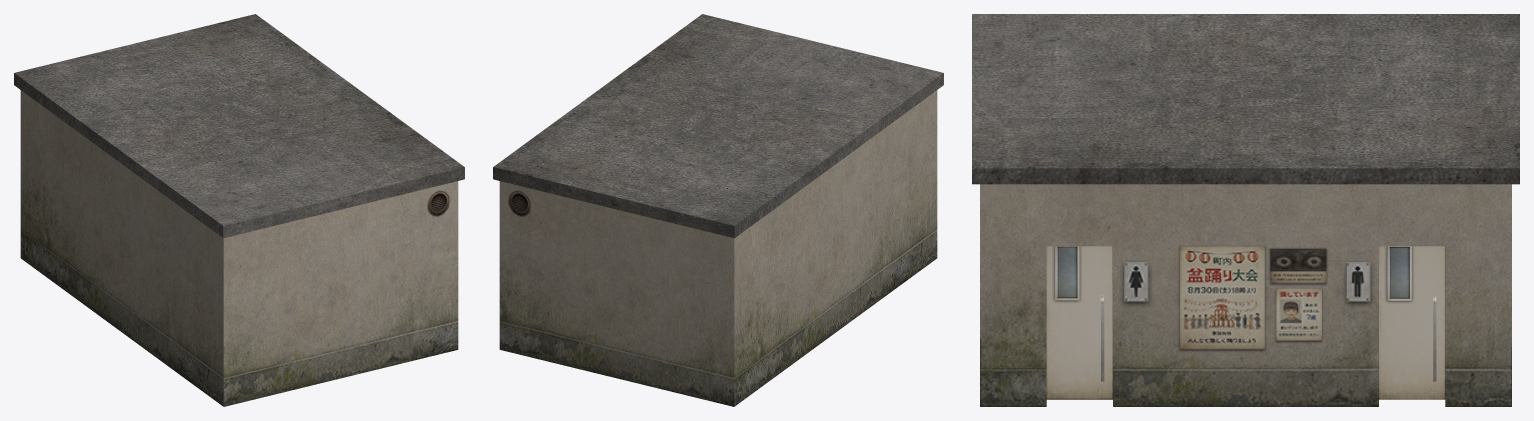
Rendered from toilet.fbx.
3 views of the same model, side by side, from view 1: azimuth 30°, elevation 25°; view 2: azimuth 150°, elevation 25°; view 3: azimuth 270°, elevation 25° (orthographic). The views are drawn at different scales.
Visible parts, largest first — view 1: main; view 2: main; view 3: main.
Boxes of the visible parts, <box> form: main: <box>14,14,464,406</box>; main: <box>493,14,943,406</box>; main: <box>972,14,1519,406</box>.
Bounding box in the file's own units: 4.12 × 3 × 6.18.
1 material, 1 textured.
